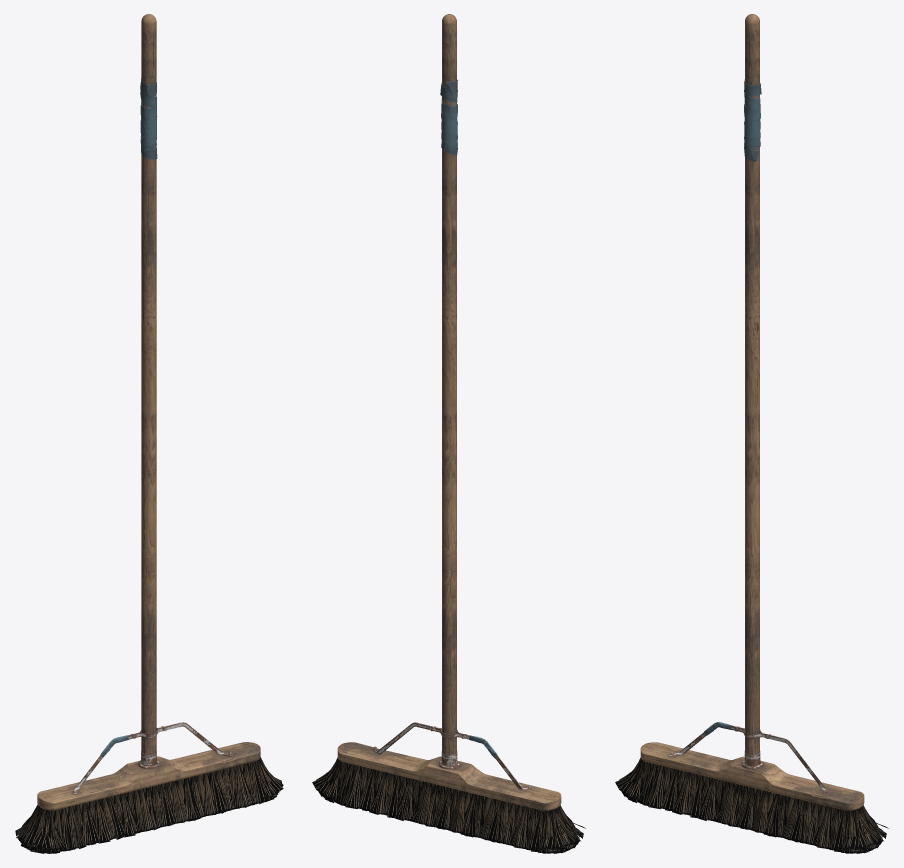
Rendered from wooden_broom.glb.
3 renders of one model, left to right at view 1: azimuth 30°, elevation 25°; view 2: azimuth 150°, elevation 25°; view 3: azimuth 330°, elevation 25°, orthographic.
Visible parts, largest first — view 1: wooden_broom_handle, wooden_broom_bristles, wooden_broom; view 2: wooden_broom_handle, wooden_broom_bristles, wooden_broom; view 3: wooden_broom_handle, wooden_broom_bristles, wooden_broom.
Part boxes in pixels (left/top/right/bottom): wooden_broom_handle: left=140, top=14, right=157, bottom=765; wooden_broom_bristles: left=15, top=757, right=283, bottom=853; wooden_broom: left=37, top=722, right=260, bottom=817; wooden_broom_handle: left=440, top=14, right=457, bottom=766; wooden_broom_bristles: left=312, top=757, right=585, bottom=853; wooden_broom: left=337, top=722, right=565, bottom=826; wooden_broom_handle: left=744, top=14, right=761, bottom=766; wooden_broom_bristles: left=615, top=757, right=888, bottom=853; wooden_broom: left=640, top=722, right=864, bottom=826.
Bounding box in the file's own units: 0.4902 × 1.45 × 0.1125.
Materials: 2 (2 with a texture image).
